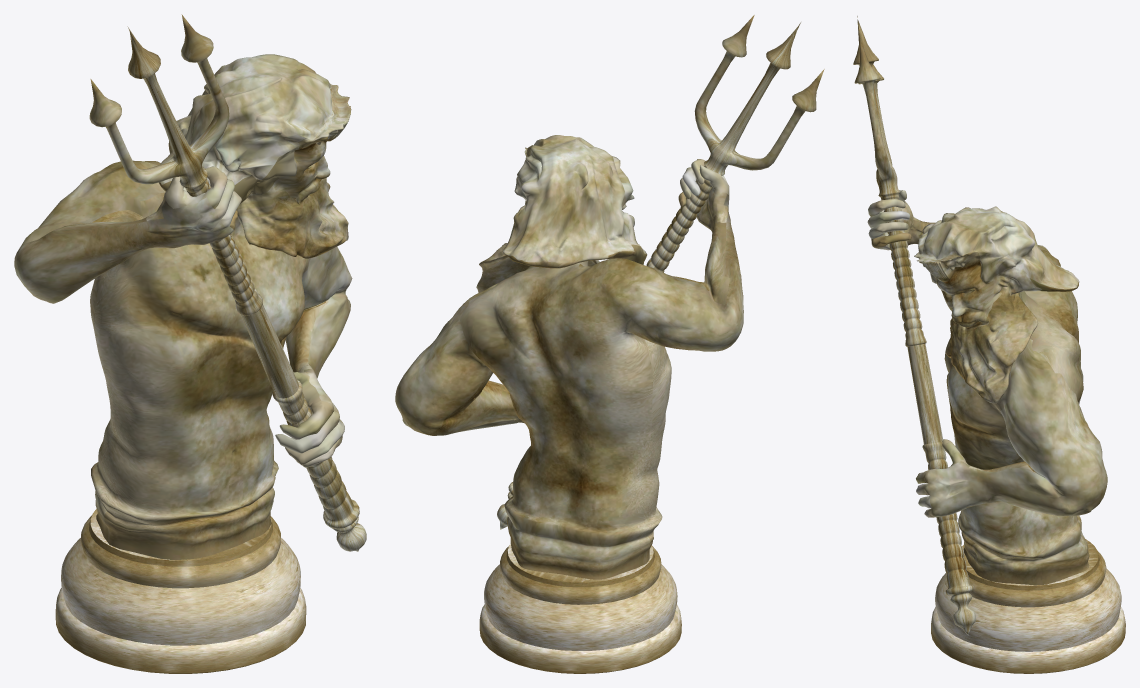
The model's file is ChessKing.obj.
3 renders of one model, left to right at view 1: azimuth 30°, elevation 25°; view 2: azimuth 150°, elevation 25°; view 3: azimuth 270°, elevation 25°, orthographic. The views are drawn at different scales.
Visible parts, largest first — view 1: ChessKing; view 2: ChessKing; view 3: ChessKing.
Part boxes in pixels (bbox=[...]): ChessKing: bbox=[14, 14, 366, 673]; ChessKing: bbox=[395, 15, 824, 673]; ChessKing: bbox=[853, 16, 1125, 673].
Bounding box in the file's own units: 0.0797 × 0.1396 × 0.062.
Materials: 2 (2 with a texture image).
